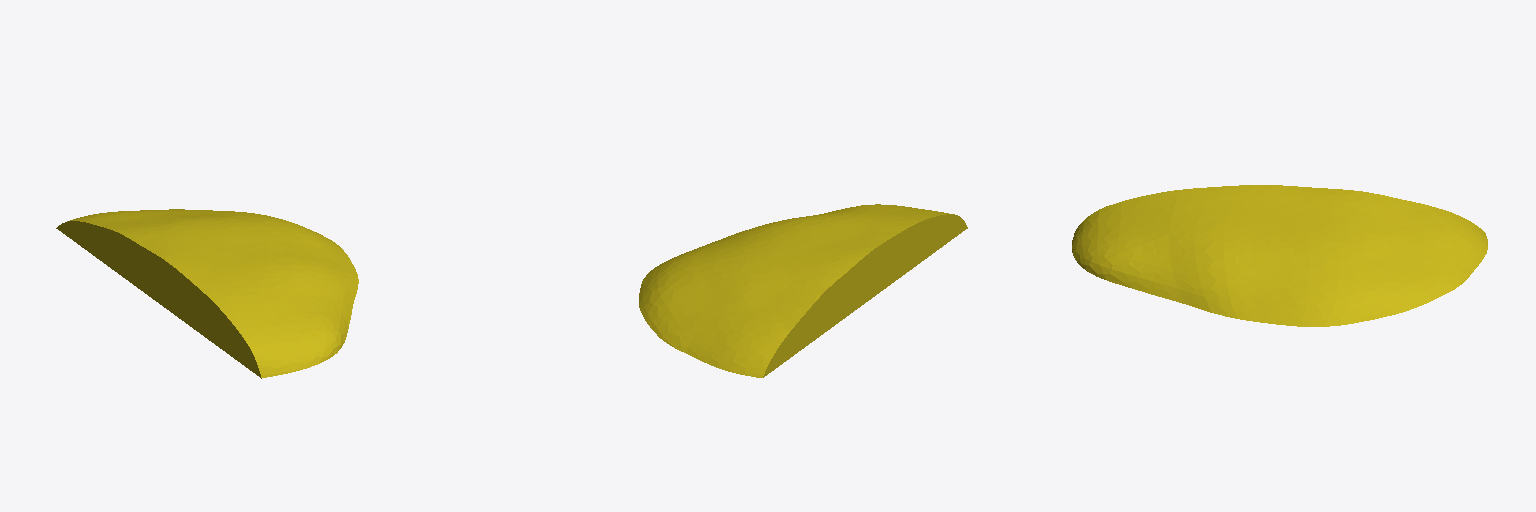
The model's file is SandBankSide.obj.
3 views of the same model, side by side, from view 1: azimuth 30°, elevation 25°; view 2: azimuth 150°, elevation 25°; view 3: azimuth 270°, elevation 25° (orthographic).
Parts seen in each view (by area): view 1: SandBankSide; view 2: SandBankSide; view 3: SandBankSide.
Part boxes in pixels (x1,y1,x2,y2): SandBankSide: (56, 209, 358, 378); SandBankSide: (639, 204, 967, 377); SandBankSide: (1072, 185, 1487, 326).
Size of the model in its own units: 0.9428 by 0.2198 by 1.75.